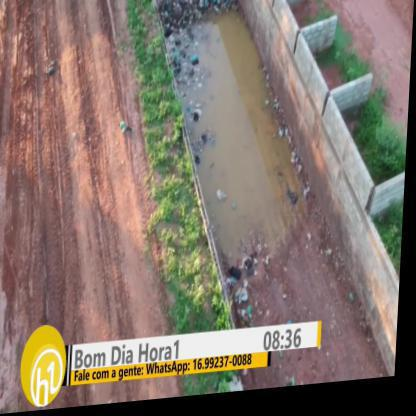agua: (195, 40, 285, 223)
lixo: (159, 0, 237, 20)
